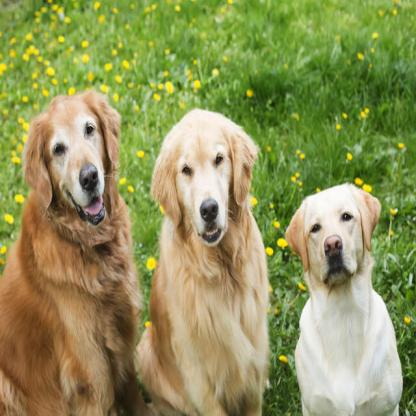dog: (0, 94, 139, 416), (136, 105, 269, 416), (287, 178, 402, 416)
